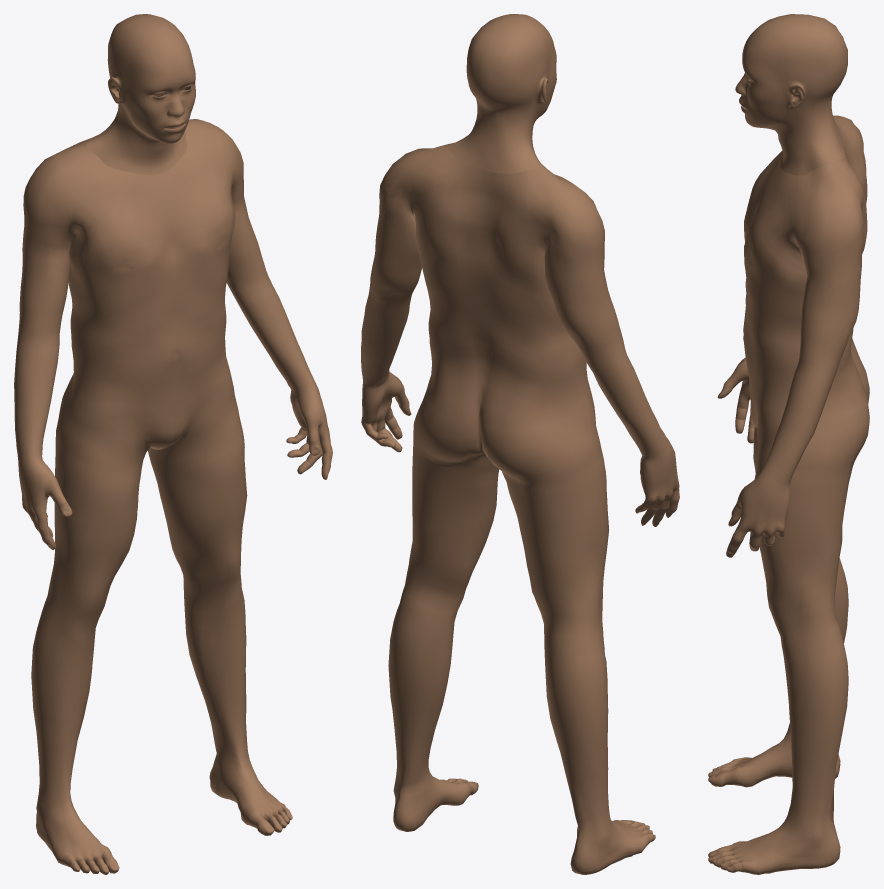
File: body_shell.obj
The picture shows the model from 3 angles, left to right: view 1: azimuth 30°, elevation 25°; view 2: azimuth 150°, elevation 25°; view 3: azimuth 270°, elevation 25°; orthographic projection. The views are drawn at different scales.
Parts seen in each view (by area): view 1: body; view 2: body; view 3: body.
Boxes of the visible parts, x1,y1,x2,y2 form: body: (14,14,332,874); body: (361,14,679,874); body: (708,14,869,874).
Bounding box in the file's own units: 6.64 × 17.06 × 3.1.
